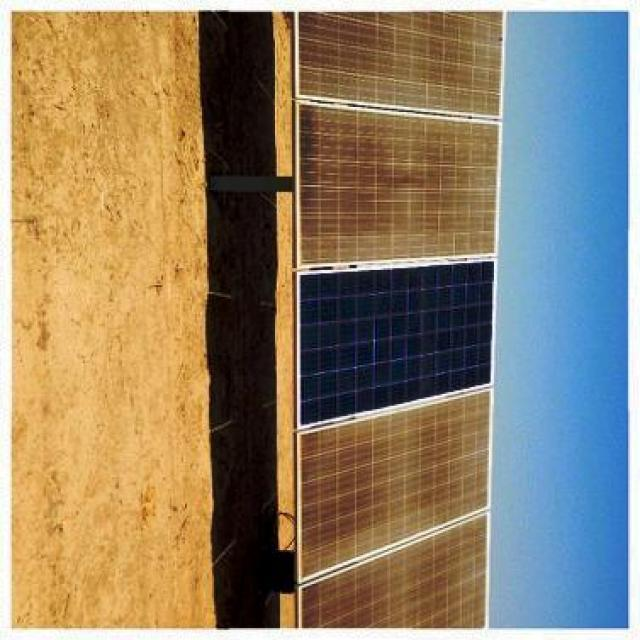faulty: (286, 387, 502, 587), (290, 96, 508, 258), (294, 10, 540, 121), (296, 510, 510, 636)
no faulty: (292, 267, 494, 427)
